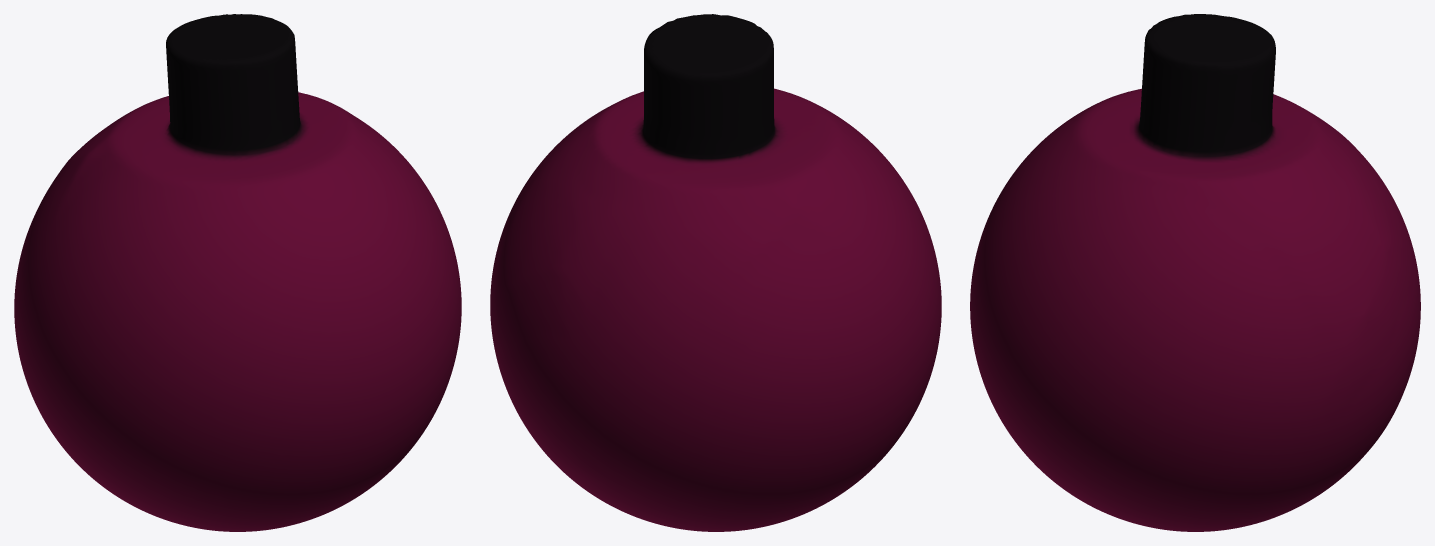
The picture shows the model from 3 angles, left to right: view 1: azimuth 30°, elevation 25°; view 2: azimuth 150°, elevation 25°; view 3: azimuth 270°, elevation 25°; orthographic projection.
Visible parts, largest first — view 1: ReferenceModel_Selection_10; view 2: ReferenceModel_Selection_10; view 3: ReferenceModel_Selection_10.
Part boxes in pixels (box(x1,y1,x2,y2)): ReferenceModel_Selection_10: box(14, 14, 461, 531); ReferenceModel_Selection_10: box(490, 14, 941, 531); ReferenceModel_Selection_10: box(970, 14, 1420, 531).
Size of the model in its own units: 34.51 by 40.13 by 34.45.
